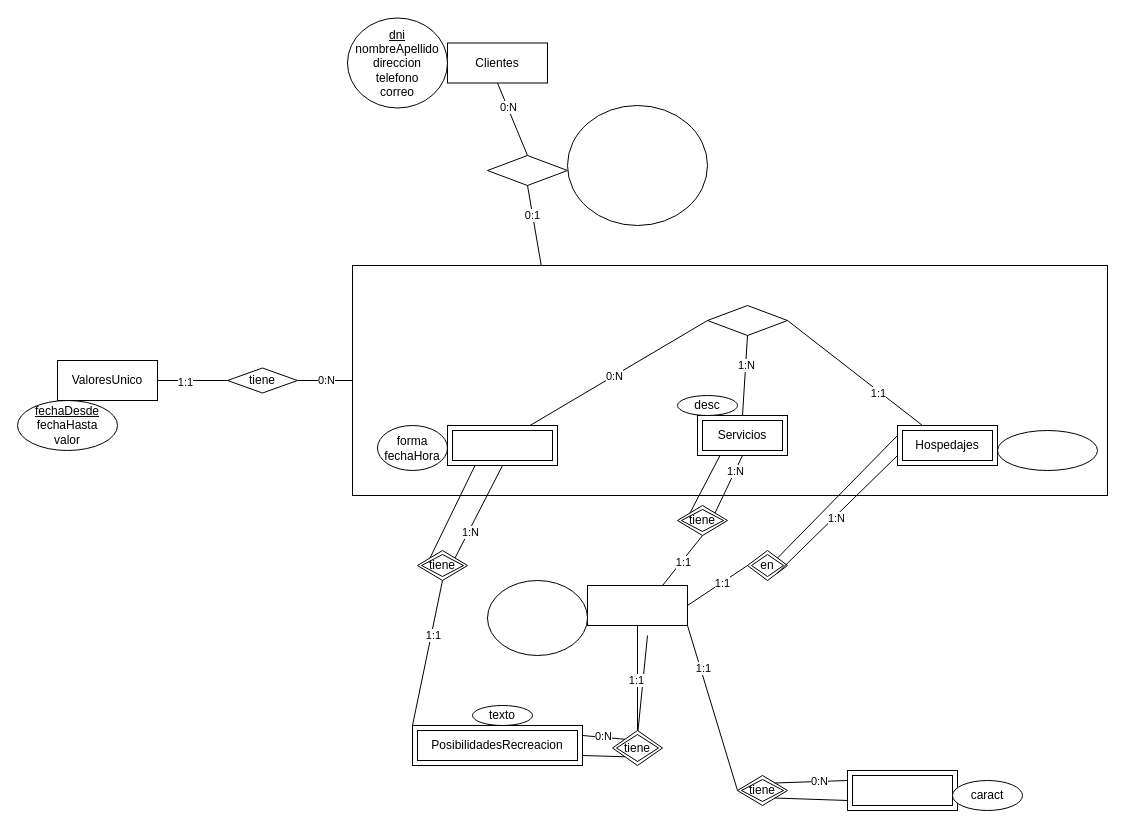
This 1125x828 diagram has some shape labels left out. Here are the shapes that lost their labels. From the top down, the box of each, then its label:
(486, 154, 568, 186): reserva
(566, 104, 708, 226): fechaRes nombreTarj nroTarj codAutorizacion cantPer fechaViaje montoAdicional
(706, 304, 788, 336): paquete
(446, 424, 558, 466): FormasTraslado
(996, 430, 1098, 470): nombre direccion estrellas
(486, 580, 588, 656): denominador ciudad prov pais
(586, 584, 688, 626): GuiaLugares
(846, 770, 958, 810): Caracteristicas
